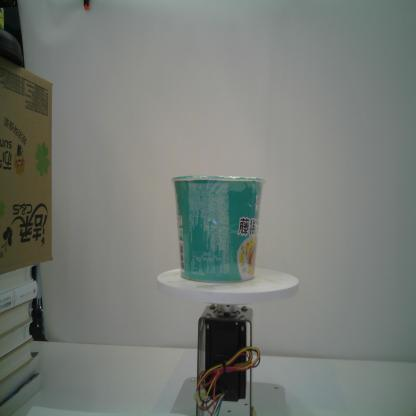Instant Noodles: (168, 172, 266, 285)
